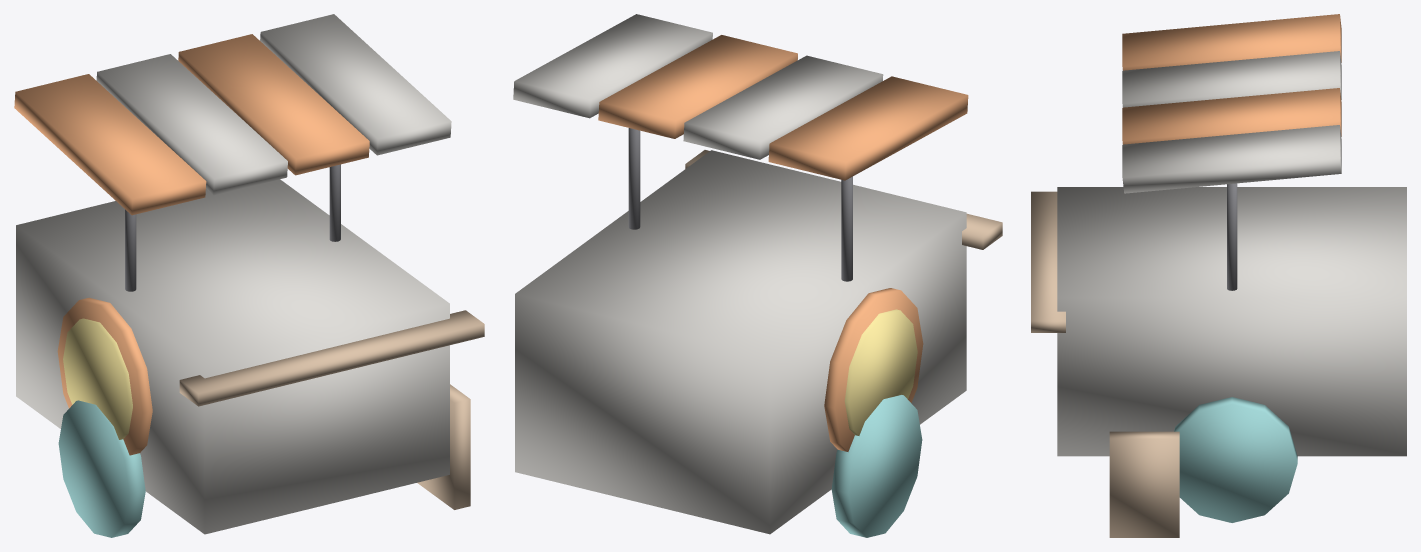
File: thai_tea_shop_lv1.glb
3 renders of one model, left to right at view 1: azimuth 30°, elevation 25°; view 2: azimuth 150°, elevation 25°; view 3: azimuth 270°, elevation 25°, orthographic. The views are drawn at different scales.
Parts seen in each view (by area): view 1: cart_body, cart_strip_0, cart_strip_3, cart_strip_2, cart_strip_1, cart_w_l, cart_handle, orange_prop_inner, orange_prop, menu_stand, cart_p_l, cart_p_r; view 2: cart_body, cart_strip_0, cart_strip_1, cart_strip_2, cart_strip_3, cart_w_l, orange_prop_inner, orange_prop, cart_p_r, cart_p_l, cart_handle; view 3: cart_body, cart_w_r, cart_strip_3, cart_strip_0, cart_strip_1, cart_strip_2, menu_stand, cart_handle, cart_p_r.
Boxes of the visible parts, <box> form: cart_body: <box>16,179,449,534</box>; cart_strip_0: <box>14,74,206,215</box>; cart_strip_3: <box>260,14,451,155</box>; cart_strip_2: <box>178,34,369,175</box>; cart_strip_1: <box>96,54,287,195</box>; cart_w_l: <box>58,400,145,537</box>; cart_handle: <box>179,310,484,406</box>; orange_prop_inner: <box>63,318,132,439</box>; orange_prop: <box>57,297,152,455</box>; menu_stand: <box>417,384,470,509</box>; cart_p_l: <box>125,209,136,291</box>; cart_p_r: <box>329,164,340,241</box>; cart_body: <box>515,150,966,534</box>; cart_strip_0: <box>768,76,968,180</box>; cart_strip_1: <box>683,55,883,159</box>; cart_strip_2: <box>598,35,797,138</box>; cart_strip_3: <box>513,14,712,118</box>; cart_w_l: <box>831,395,922,537</box>; orange_prop_inner: <box>844,309,917,435</box>; orange_prop: <box>824,288,923,451</box>; cart_p_r: <box>628,128,640,229</box>; cart_p_l: <box>841,176,852,281</box>; cart_handle: <box>685,150,1002,249</box>; cart_body: <box>1057,187,1406,456</box>; cart_w_r: <box>1174,397,1297,522</box>; cart_strip_3: <box>1122,125,1341,193</box>; cart_strip_0: <box>1122,14,1341,70</box>; cart_strip_1: <box>1122,51,1341,107</box>; cart_strip_2: <box>1122,88,1341,144</box>; menu_stand: <box>1109,431,1179,537</box>; cart_handle: <box>1031,191,1065,332</box>; cart_p_r: <box>1227,183,1237,290</box>.
Size of the model in its own units: 0.81 by 0.9449 by 0.86.
